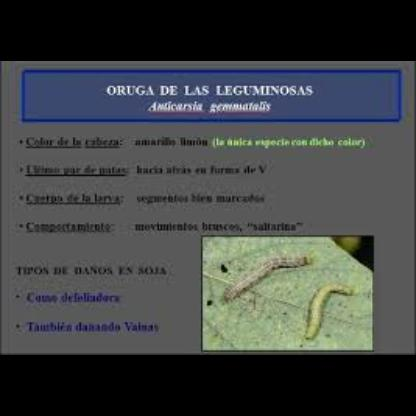oruga: (218, 252, 308, 306), (302, 280, 352, 346)
